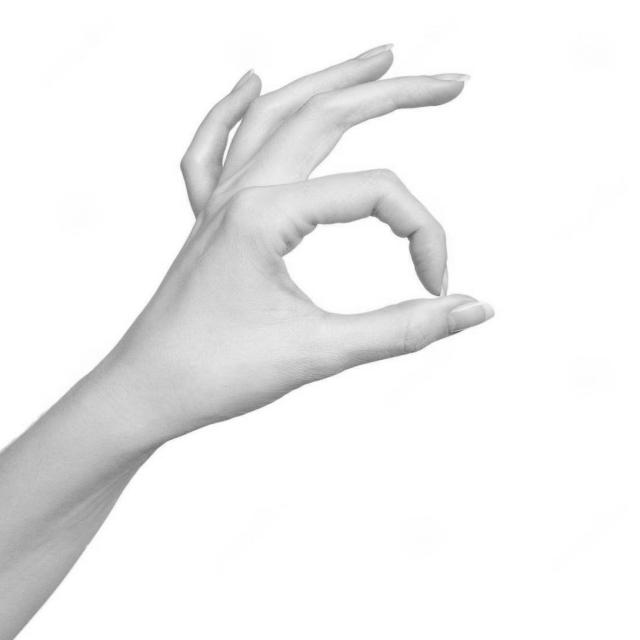perfect: (72, 35, 503, 492)
